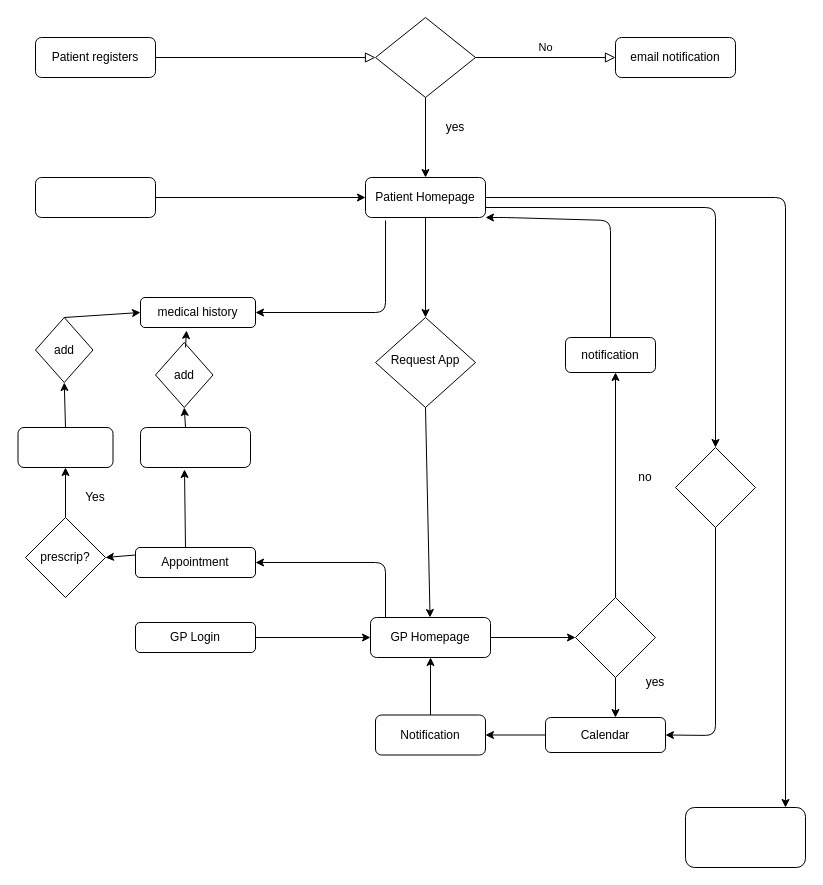
Some shapes in this 823 by 885 pixel diagram are drawn without their labels. Each missing label, with the box of its shape:
approve?: (574, 596, 656, 678)
Approved by Admin?: (374, 16, 476, 98)
cancel: (674, 446, 756, 528)
Feedback: (684, 806, 806, 868)
medicalInfo: (140, 426, 250, 468)
Patient login: (34, 176, 156, 218)
Prescription: (17, 426, 113, 468)
